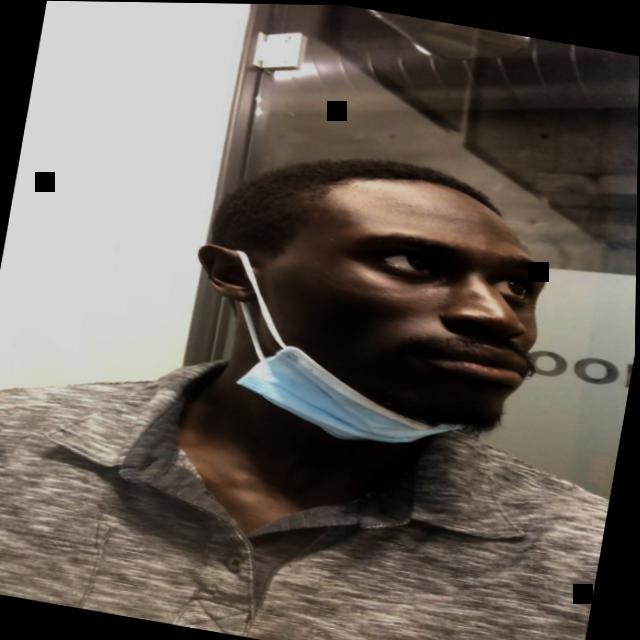NO-Mask: (238, 165, 557, 426)
